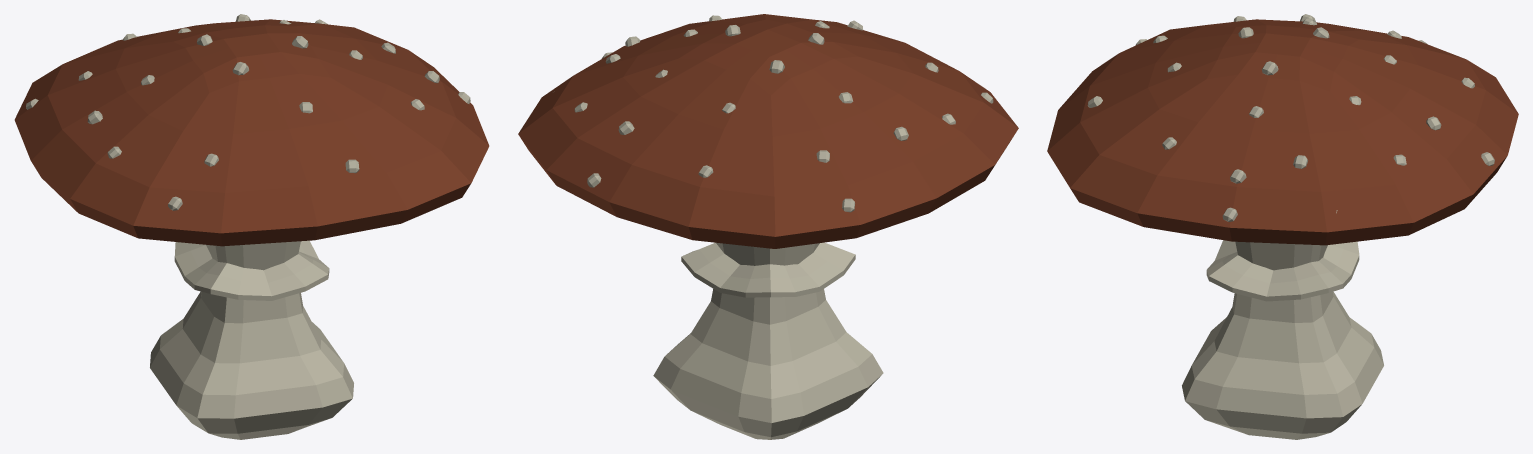
Rendered from mushroom_4.glb.
3 renders of one model, left to right at view 1: azimuth 30°, elevation 25°; view 2: azimuth 150°, elevation 25°; view 3: azimuth 270°, elevation 25°, orthographic.
Parts seen in each view (by area): view 1: Mushroom_4; view 2: Mushroom_4; view 3: Mushroom_4.
Boxes of the visible parts, <box> form: Mushroom_4: <box>14,14,489,439</box>; Mushroom_4: <box>518,14,1018,439</box>; Mushroom_4: <box>1047,14,1518,439</box>.
Size of the model in its own units: 0.4451 by 0.3995 by 0.4451.
